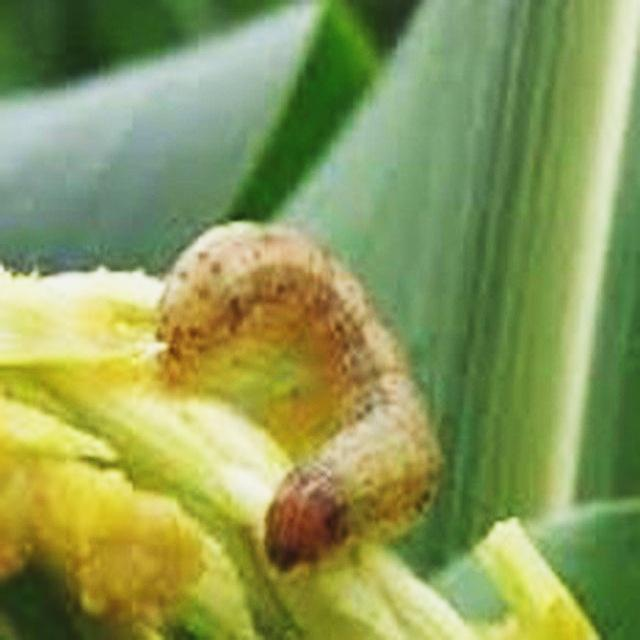gusano_cogollero: (146, 210, 444, 583)
